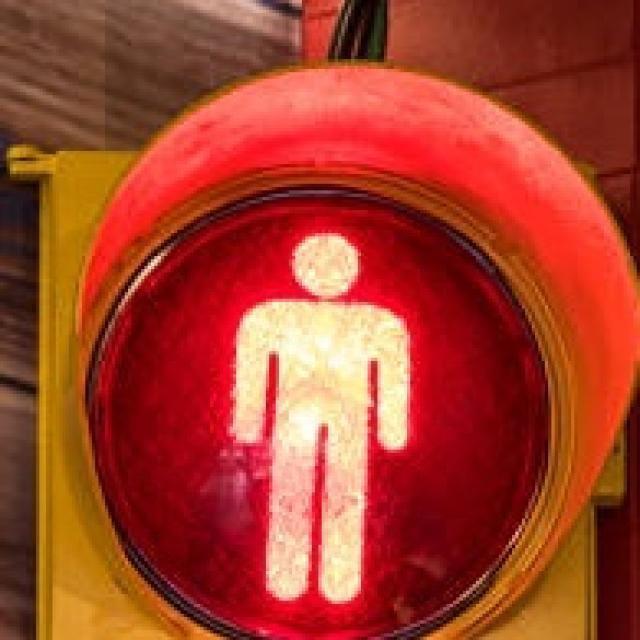red-crossing: (217, 200, 420, 611)
